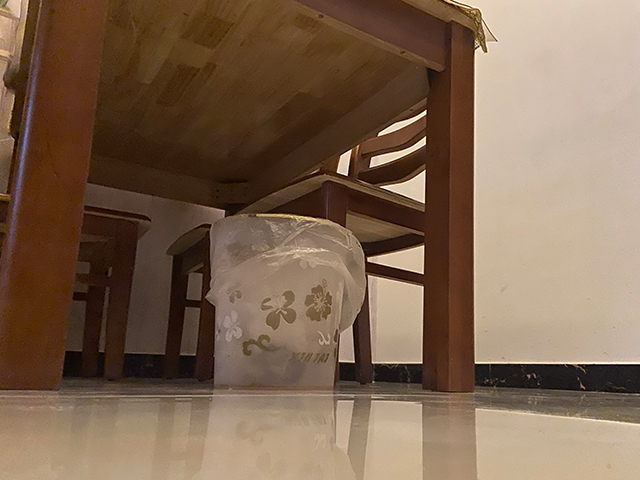stool: (160, 92, 429, 389), (1, 191, 155, 383)
table: (1, 1, 501, 394)
trashcan: (208, 212, 361, 392)
